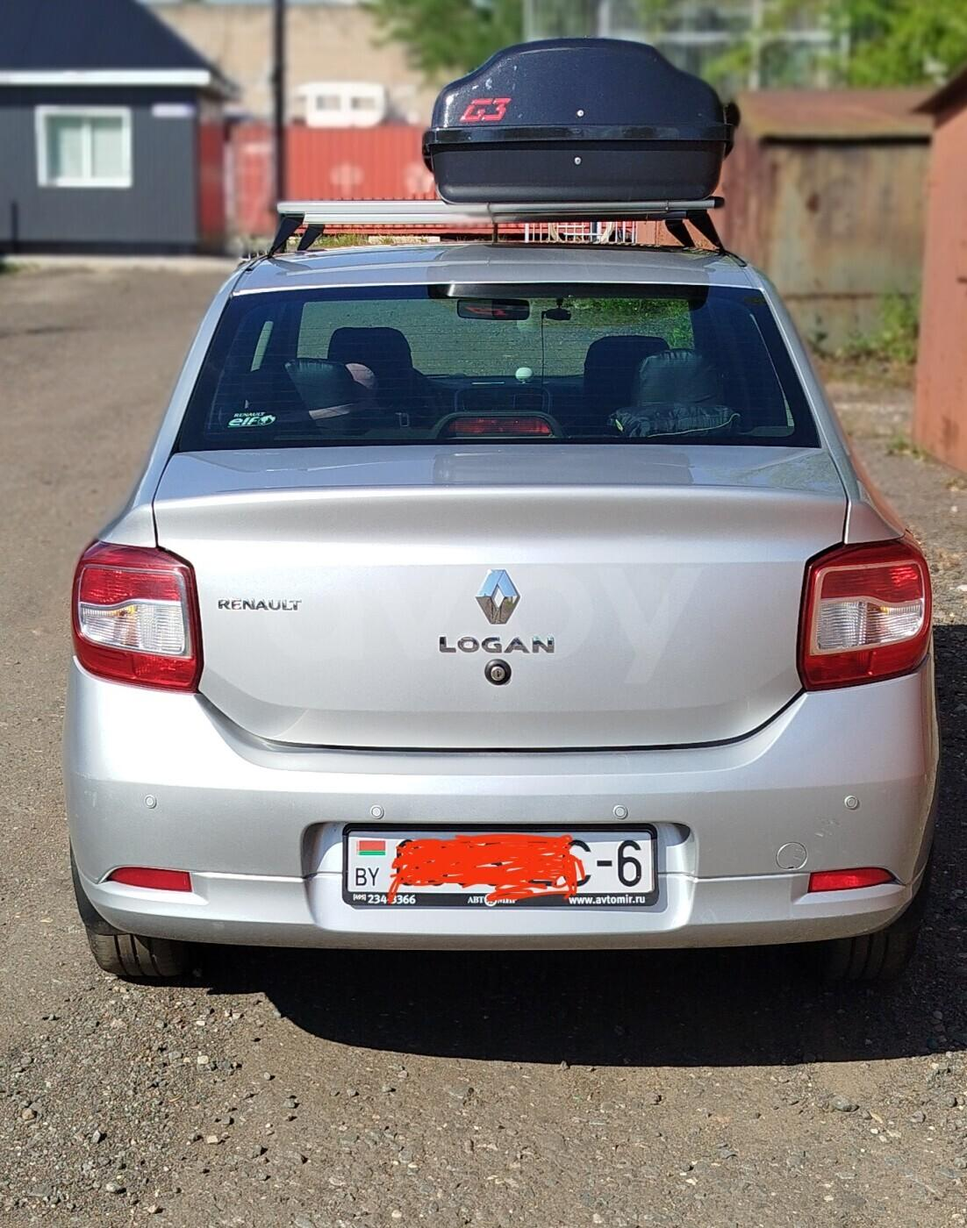Logan_2013-2018: (53, 212, 946, 991)
